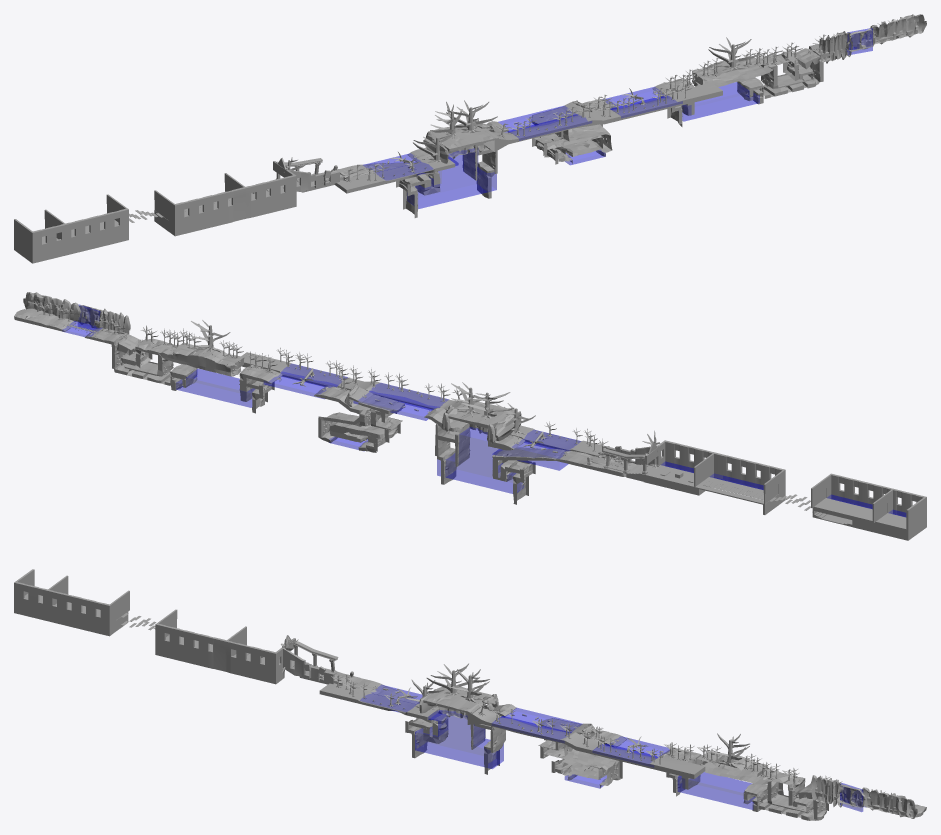
The model's file is LevelDesign.fbx.
The picture shows the model from 3 angles, top to bottom: view 1: azimuth 30°, elevation 25°; view 2: azimuth 150°, elevation 25°; view 3: azimuth 330°, elevation 25°; orthographic projection.
Visible parts, largest first — view 1: polySurface771, polySurface744, polySurface727, pCube30, pasted__pasted__polySurface3211, pCube9, pCube25, pasted__pasted__polySurface3210, pasted__polySurface3198, pasted__pasted__polySurface3156, pasted__pasted__polySurface3201, pCube28 (+7 smaller); view 2: pCube30, polySurface771, polySurface744, polySurface727, pasted__pasted__polySurface3211, pCube18, pCube19, pCube25, pasted__pasted__polySurface3210, pCube28, pCube9, pCube27 (+15 smaller); view 3: polySurface771, polySurface744, pCube30, polySurface727, pCube25, pasted__pasted__polySurface3211, pCube9, pasted__pasted__polySurface3210, pasted__polySurface3198, pasted__pasted__polySurface3156, pCube27, pCube28 (+6 smaller).
Part boxes in pixels (<box>): polySurface771: <box>154,161,339,236</box>; polySurface744: <box>14,194,128,263</box>; polySurface727: <box>483,82,722,151</box>; pCube30: <box>363,148,496,208</box>; pasted__pasted__polySurface3211: <box>692,51,797,86</box>; pCube9: <box>334,157,455,193</box>; pCube25: <box>678,82,759,121</box>; pasted__pasted__polySurface3210: <box>563,99,616,156</box>; pasted__polySurface3198: <box>868,14,926,44</box>; pasted__pasted__polySurface3156: <box>431,121,498,151</box>; pasted__pasted__polySurface3201: <box>536,135,602,156</box>; pCube28: <box>498,106,576,132</box>; pCube30: <box>437,427,569,493</box>; polySurface771: <box>610,440,785,504</box>; polySurface744: <box>811,473,926,540</box>; polySurface727: <box>241,352,464,410</box>; pasted__pasted__polySurface3211: <box>135,338,244,376</box>; pCube18: <box>643,465,778,514</box>; pCube19: <box>812,498,907,540</box>; pCube25: <box>176,368,254,407</box>; pasted__pasted__polySurface3210: <box>314,386,371,442</box>; pCube28: <box>353,391,436,420</box>; pCube9: <box>510,425,614,456</box>; pCube27: <box>369,383,448,410</box>; polySurface771: <box>155,609,334,684</box>; polySurface744: <box>14,569,129,636</box>; pCube30: <box>371,685,503,768</box>; polySurface727: <box>467,704,705,778</box>; pCube25: <box>677,772,755,809</box>; pasted__pasted__polySurface3211: <box>696,751,805,788</box>; pCube9: <box>319,683,439,720</box>; pasted__pasted__polySurface3210: <box>564,730,626,788</box>; pasted__polySurface3198: <box>859,787,917,818</box>; pasted__pasted__polySurface3156: <box>423,686,492,713</box>; pCube27: <box>492,716,570,742</box>; pCube28: <box>501,708,582,732</box>.
Size of the model in its own units: 890 by 92.41 by 45.63.
